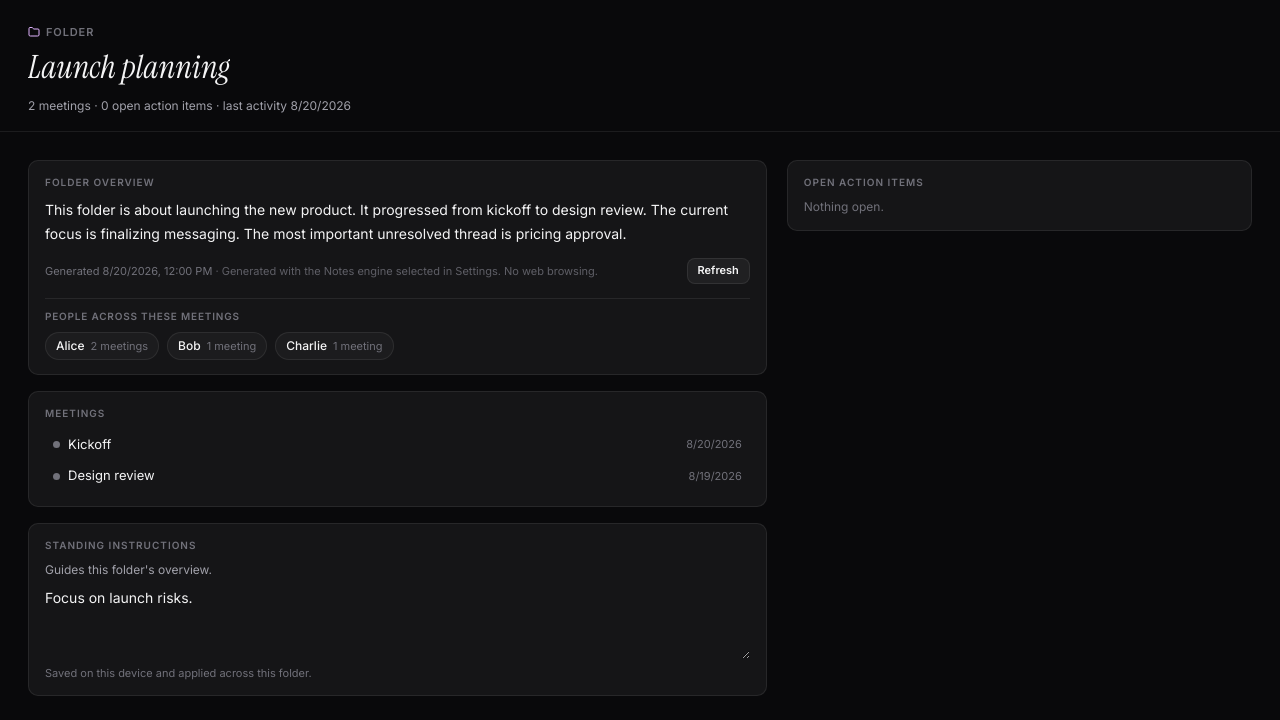
Scenario: FolderView › saves edited standing instructions with new copy/layout
The image size is (1280, 720).
Check: the text "Guides this folder's overview." is shown, box [45,562,212,577]
Check: the text "Saved on this device and applied across this folder." is shown, box [45,665,312,681]
Step 1. Replace the text in the text box named "Standing instructions" with "Always include launch blockers." → (397, 623), box [45,587,750,659]
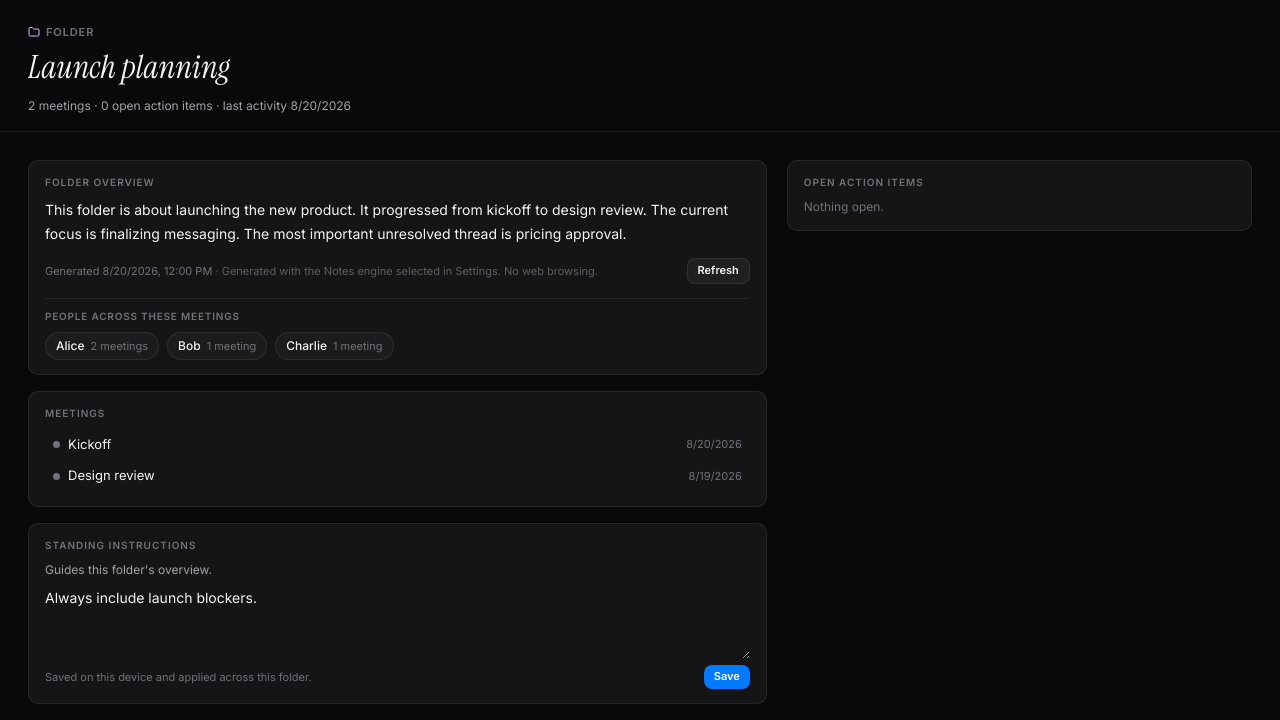
Step 2. Click the button "Save" → (727, 677), box [704,665,750,689]
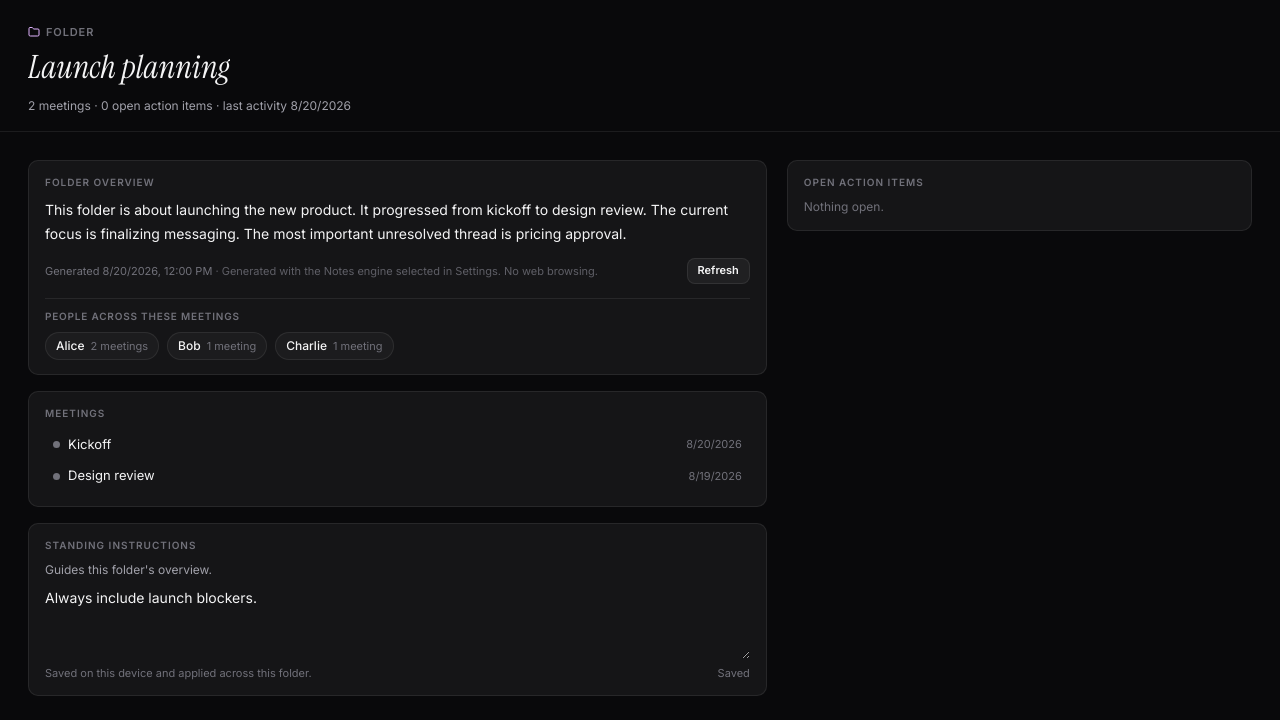
Check: the text "Saved" is shown, box [718,665,750,681]
